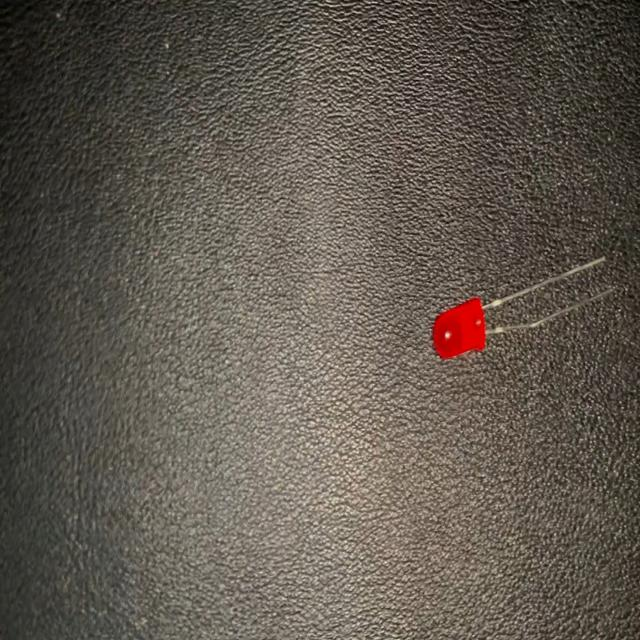LED: (432, 254, 616, 362)
